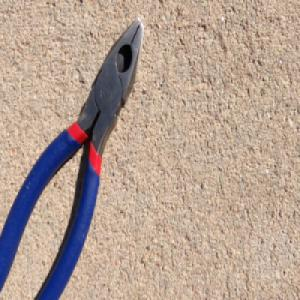Pliers: (0, 15, 145, 300)
